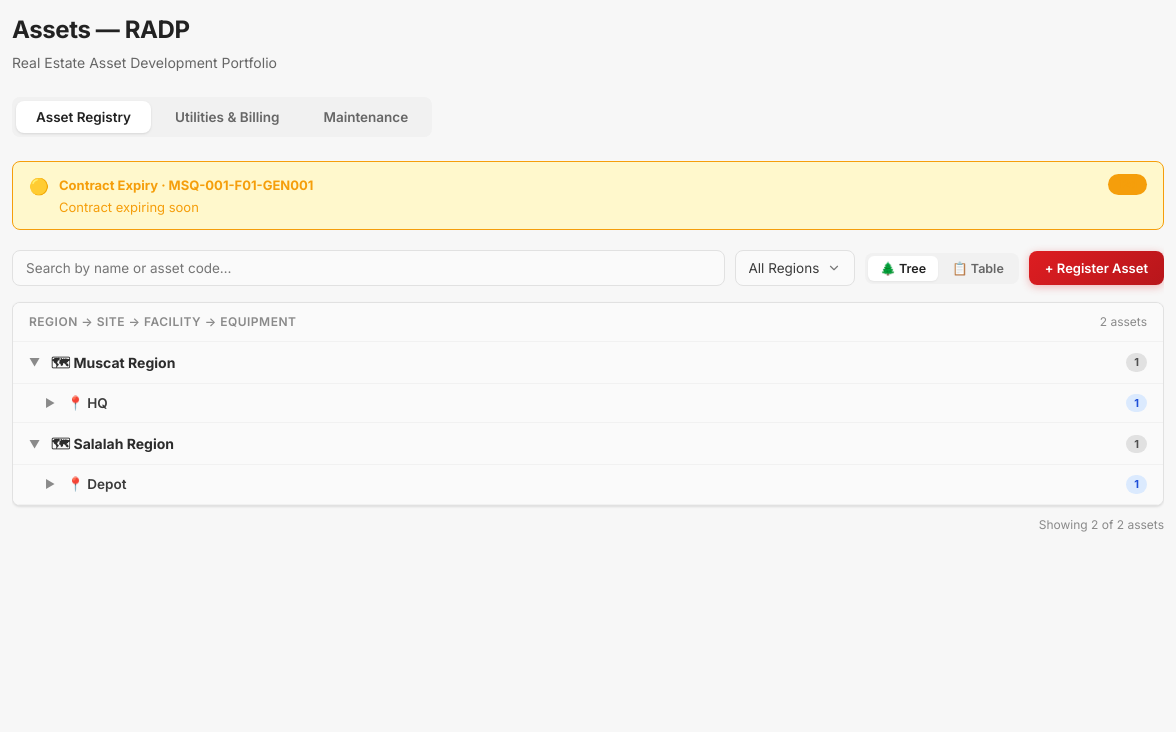
Test: renders asset rows after fetch
Click the button "📋 Table" at (978, 268), box top-left (940, 256), bottom-right (1016, 280)
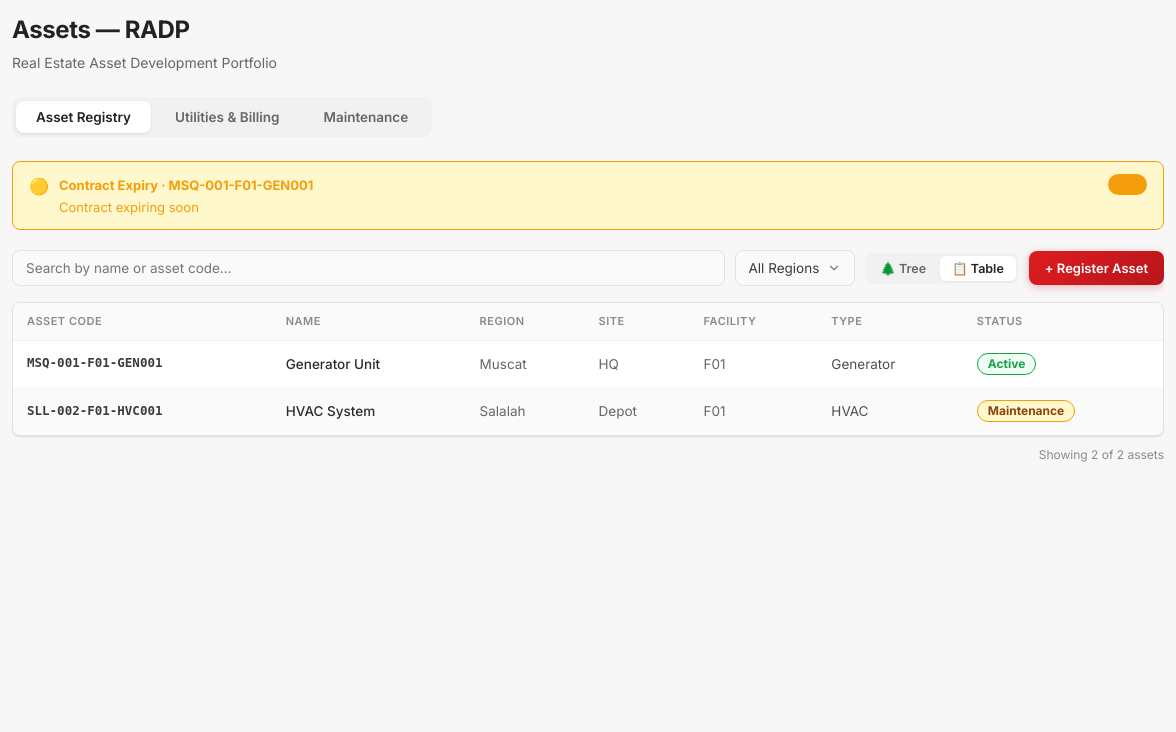
Check: the text "Generator Unit" is shown, box top-left (272, 340), bottom-right (466, 387)
Check: the number of rows with test id "asset-row" is 2, box top-left (13, 340), bottom-right (1163, 387); top-left (13, 387), bottom-right (1163, 435)
